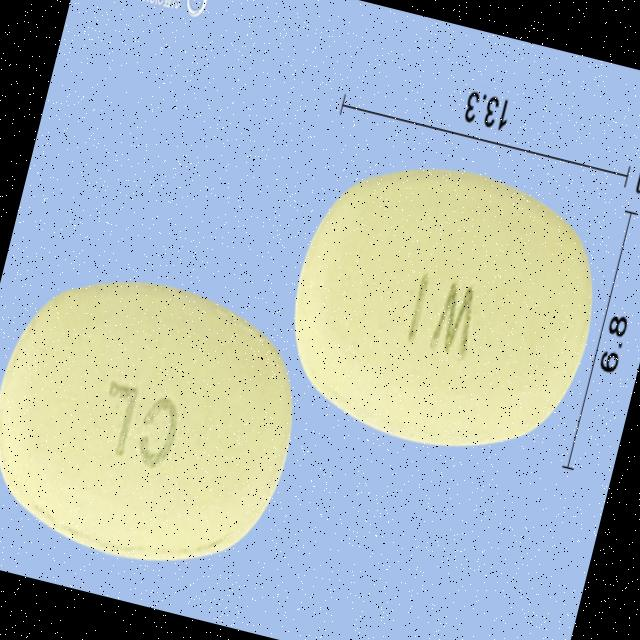Clathron - 500mg: (264, 132, 622, 482), (0, 253, 319, 590)
